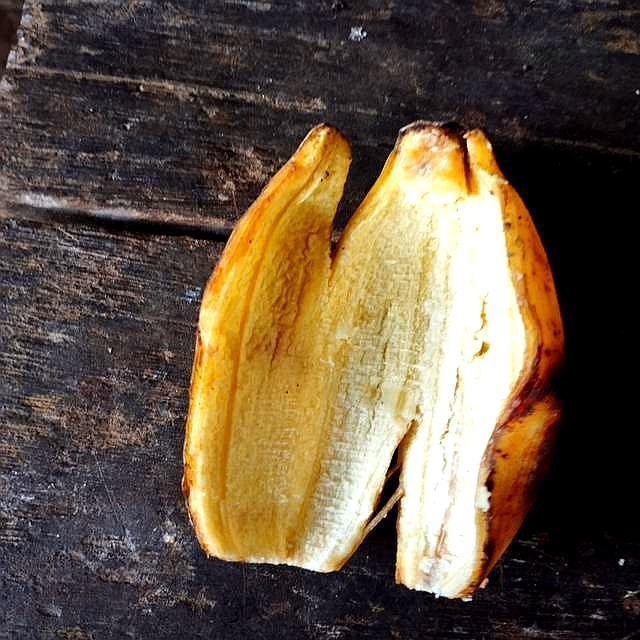Biodegradable: (189, 125, 551, 601)
